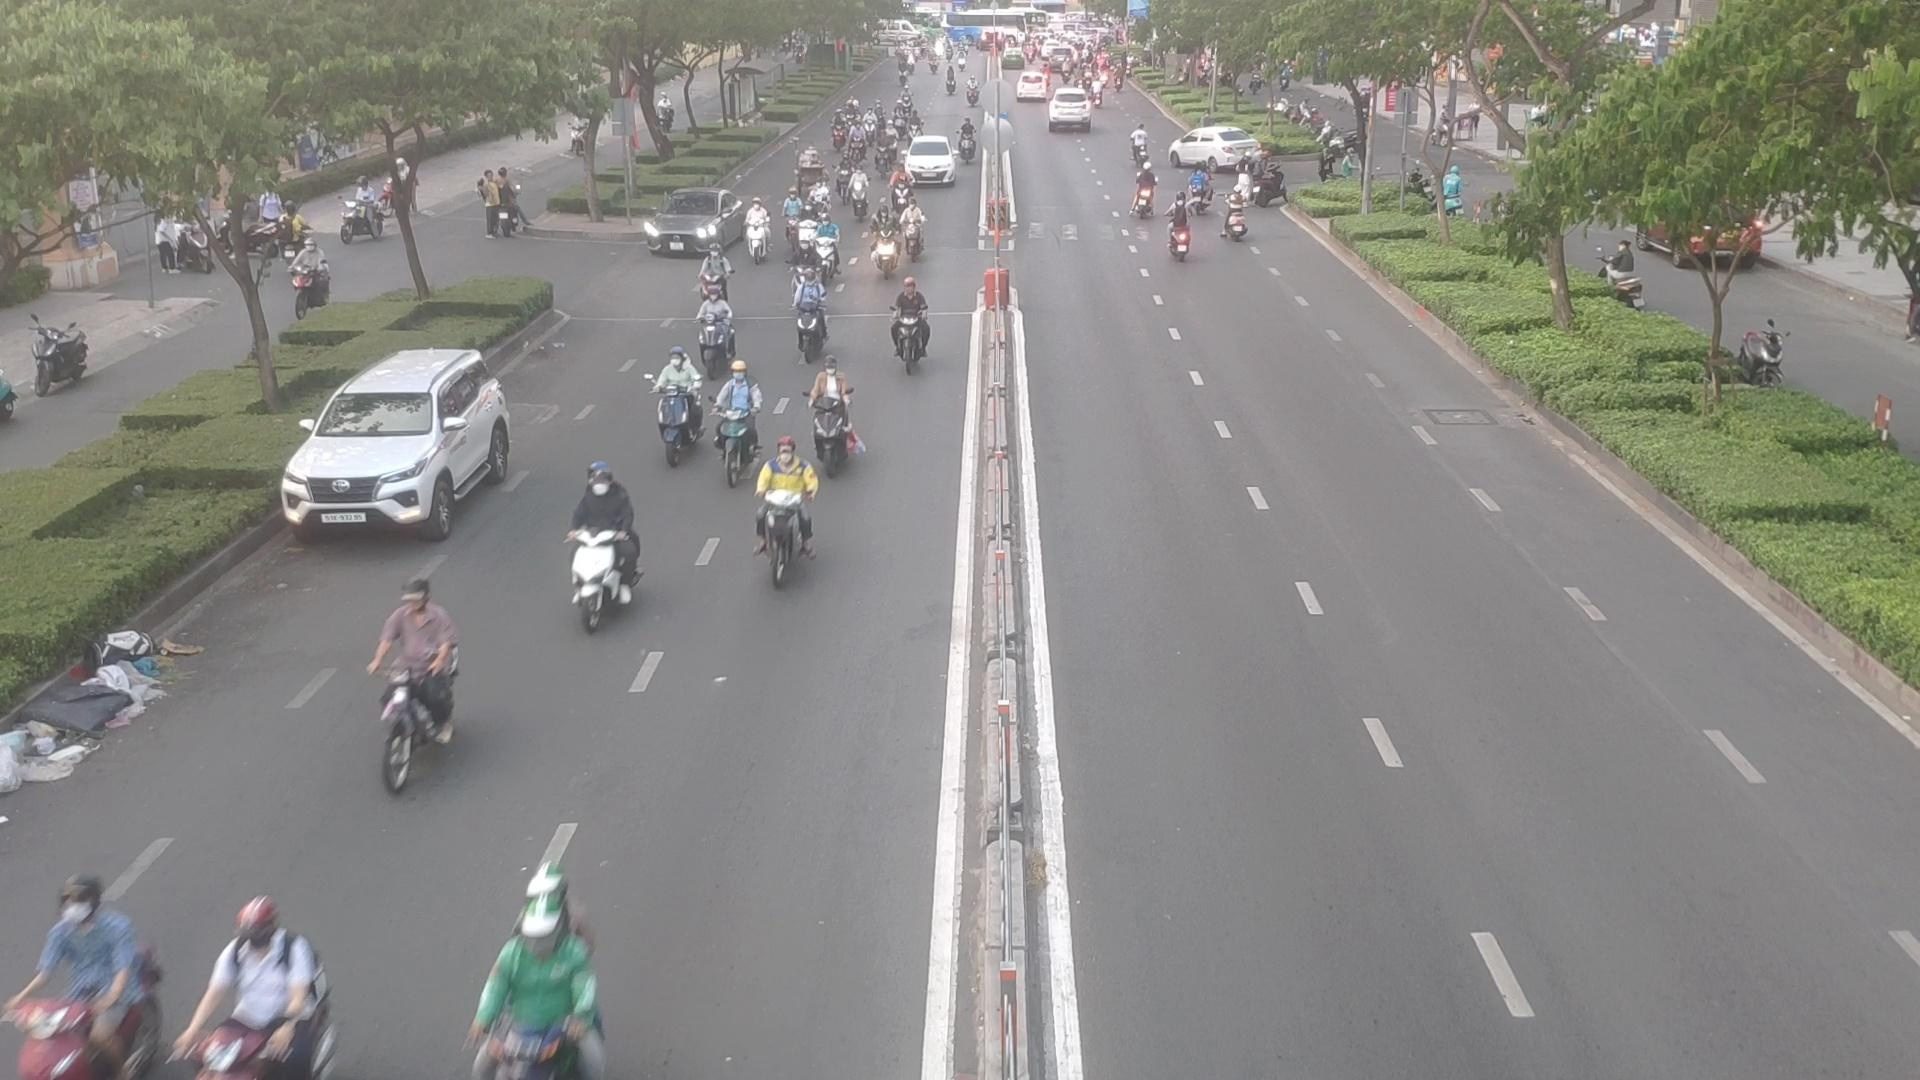car: (278, 345, 518, 539), (646, 193, 749, 258), (1171, 131, 1265, 170), (906, 135, 960, 183)
motorbike: (464, 862, 644, 1080), (0, 872, 167, 1080), (193, 891, 367, 1080), (363, 587, 465, 789), (560, 467, 636, 622), (750, 431, 822, 568), (644, 349, 705, 448), (712, 363, 762, 471), (811, 360, 848, 462), (688, 286, 735, 364), (794, 272, 829, 353), (899, 278, 927, 373), (785, 236, 814, 301), (872, 208, 899, 273), (1222, 189, 1254, 243), (1166, 189, 1189, 258), (1127, 165, 1156, 222), (742, 204, 770, 258), (901, 207, 927, 262), (702, 251, 725, 310), (1187, 164, 1213, 214), (819, 215, 840, 276), (781, 189, 799, 243), (836, 160, 855, 210), (872, 135, 891, 179), (886, 169, 909, 207), (959, 121, 977, 167), (851, 171, 866, 218), (828, 113, 848, 150), (799, 200, 816, 243), (849, 125, 866, 162), (1127, 129, 1145, 160)
